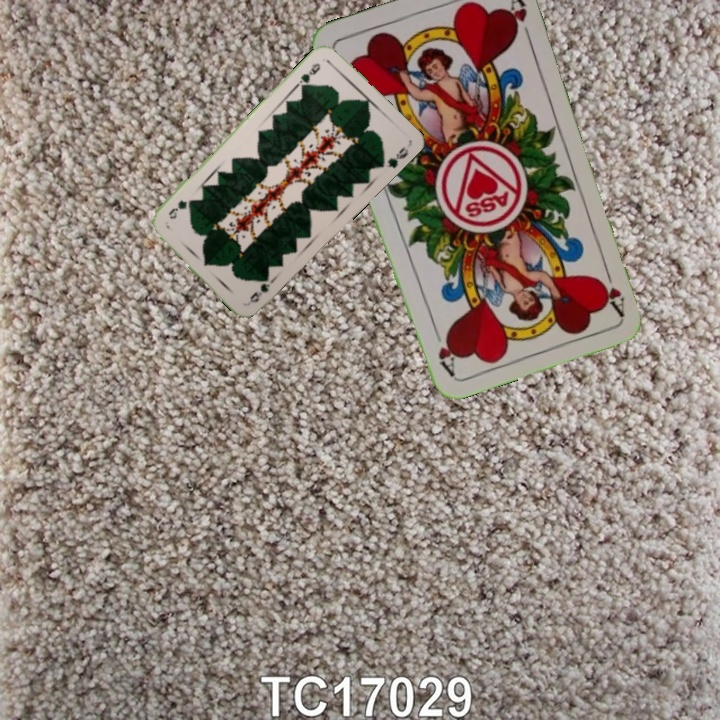G9: (293, 59, 323, 92), (246, 271, 272, 306)
HA: (595, 260, 628, 318)
